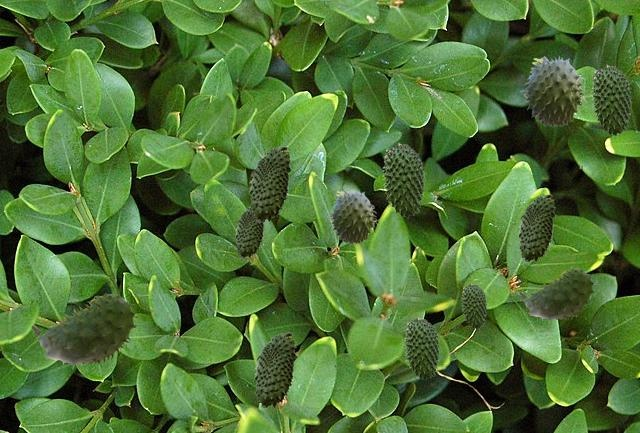guyabano: (31, 293, 136, 368), (520, 55, 590, 126), (519, 268, 594, 322), (382, 142, 424, 217), (249, 146, 290, 221), (254, 332, 295, 407), (327, 189, 380, 243), (591, 64, 631, 135), (518, 194, 554, 261), (404, 317, 439, 379), (235, 207, 264, 257), (461, 283, 486, 328)
